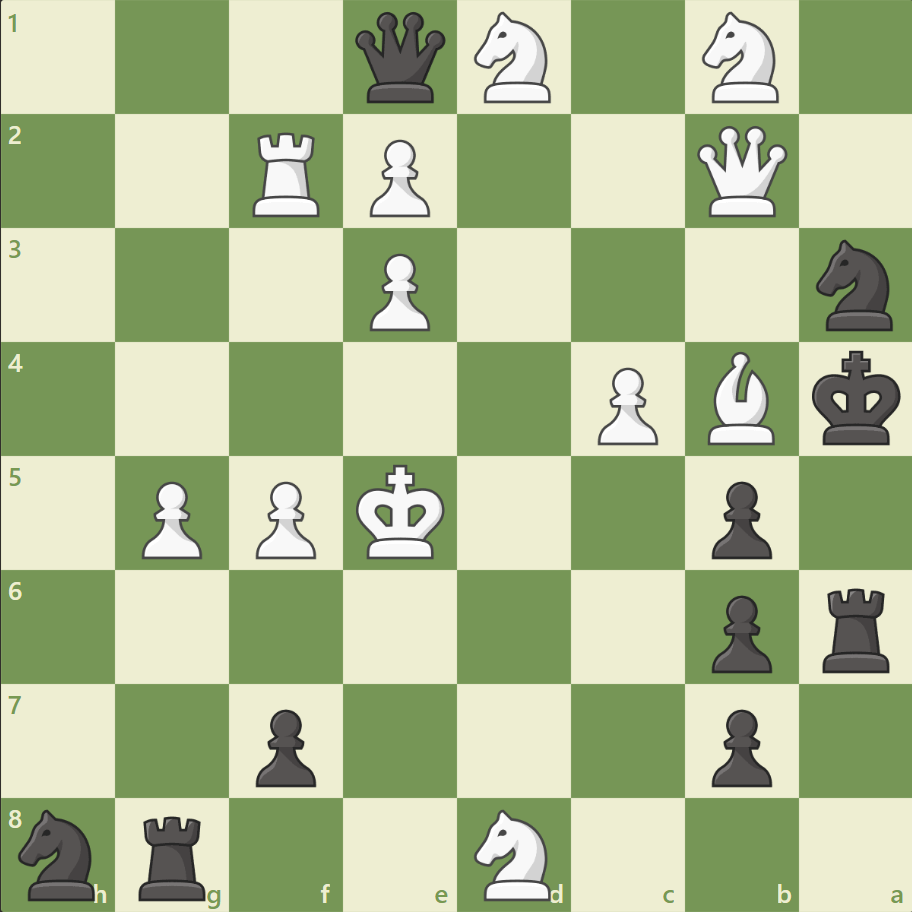B: (698, 347, 782, 449)
K: (351, 458, 451, 566)
N: (692, 7, 789, 110), (465, 7, 562, 110), (465, 802, 562, 904)
P: (247, 473, 322, 564), (133, 473, 208, 564), (588, 359, 662, 450), (361, 246, 435, 337), (361, 132, 435, 223)
Q: (691, 122, 790, 222)
R: (246, 125, 329, 222)
k: (806, 344, 906, 452)
n: (806, 234, 903, 337), (11, 802, 108, 904)
p: (701, 700, 776, 791), (247, 700, 322, 791), (701, 586, 776, 677), (701, 473, 776, 564)
q: (351, 9, 450, 108)
r: (814, 579, 897, 676), (133, 806, 215, 904)
